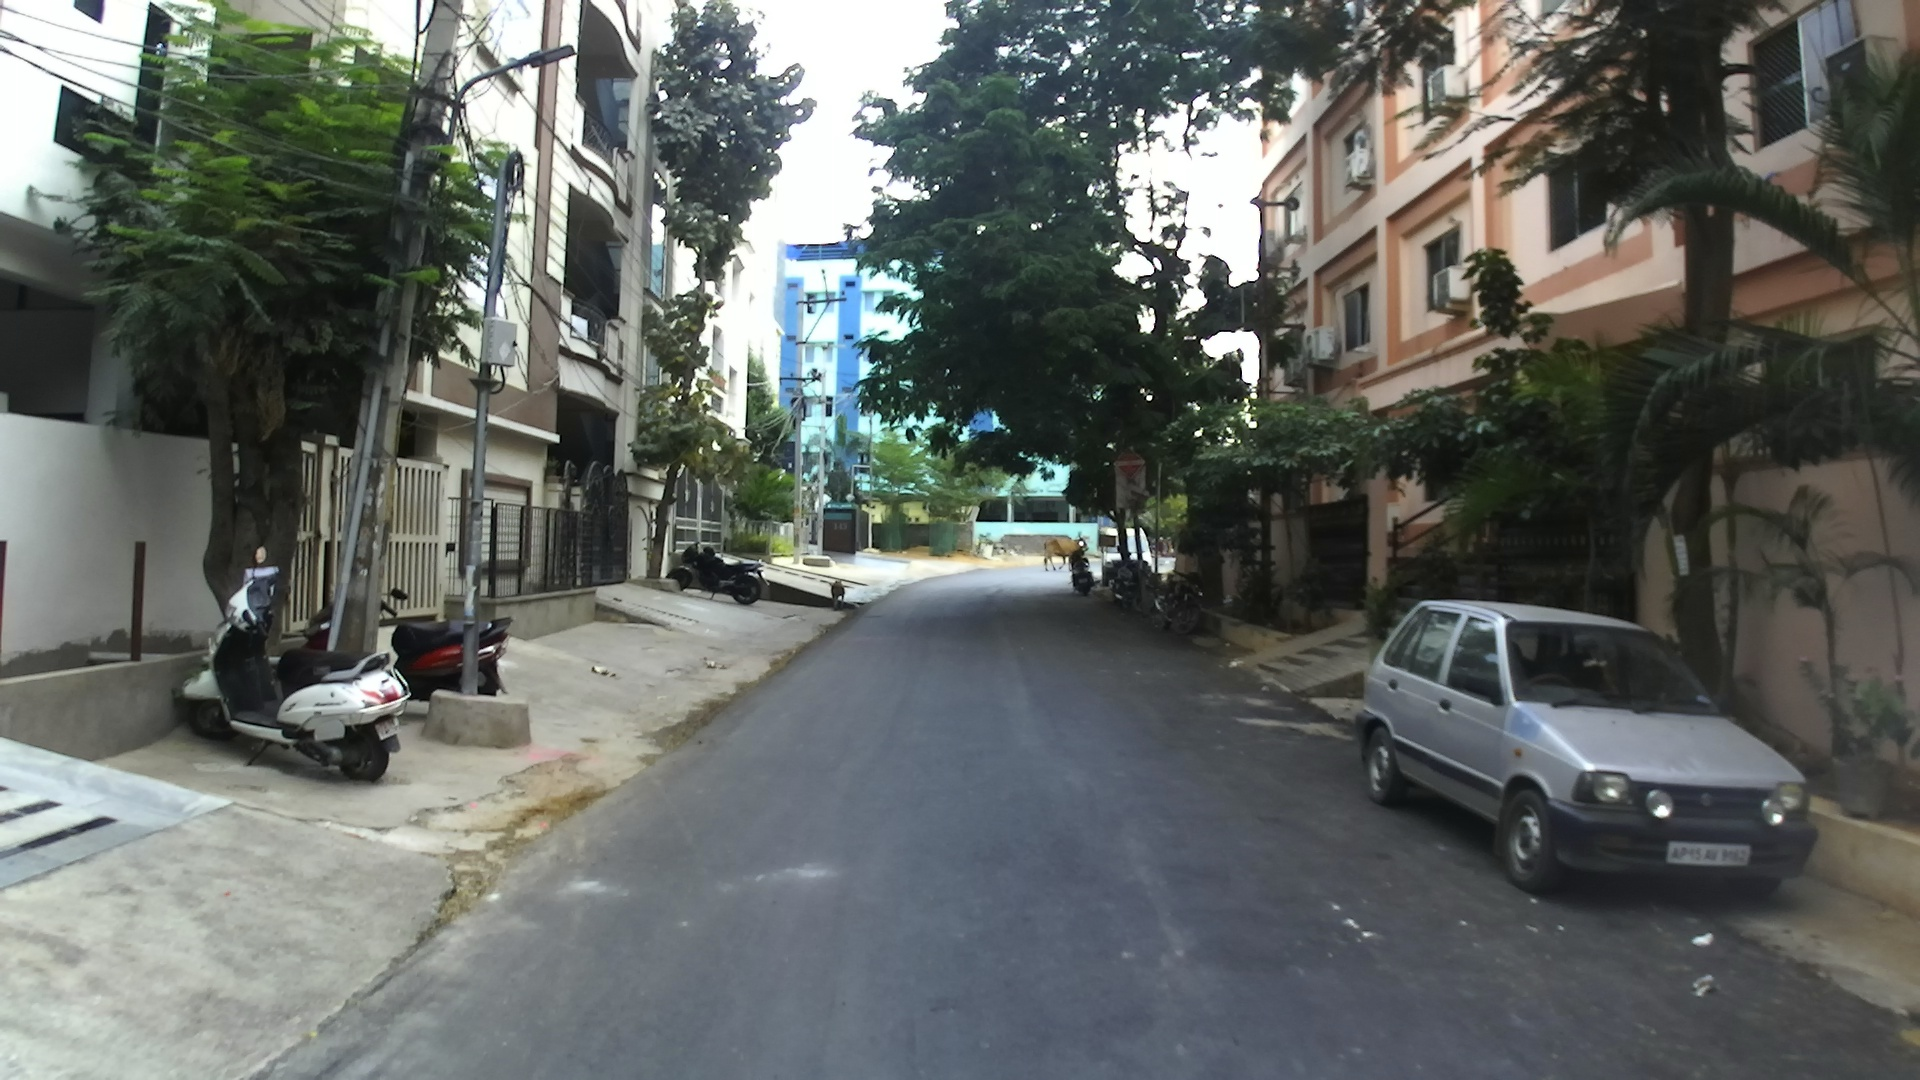vehicle: (1354, 599, 1816, 902)
